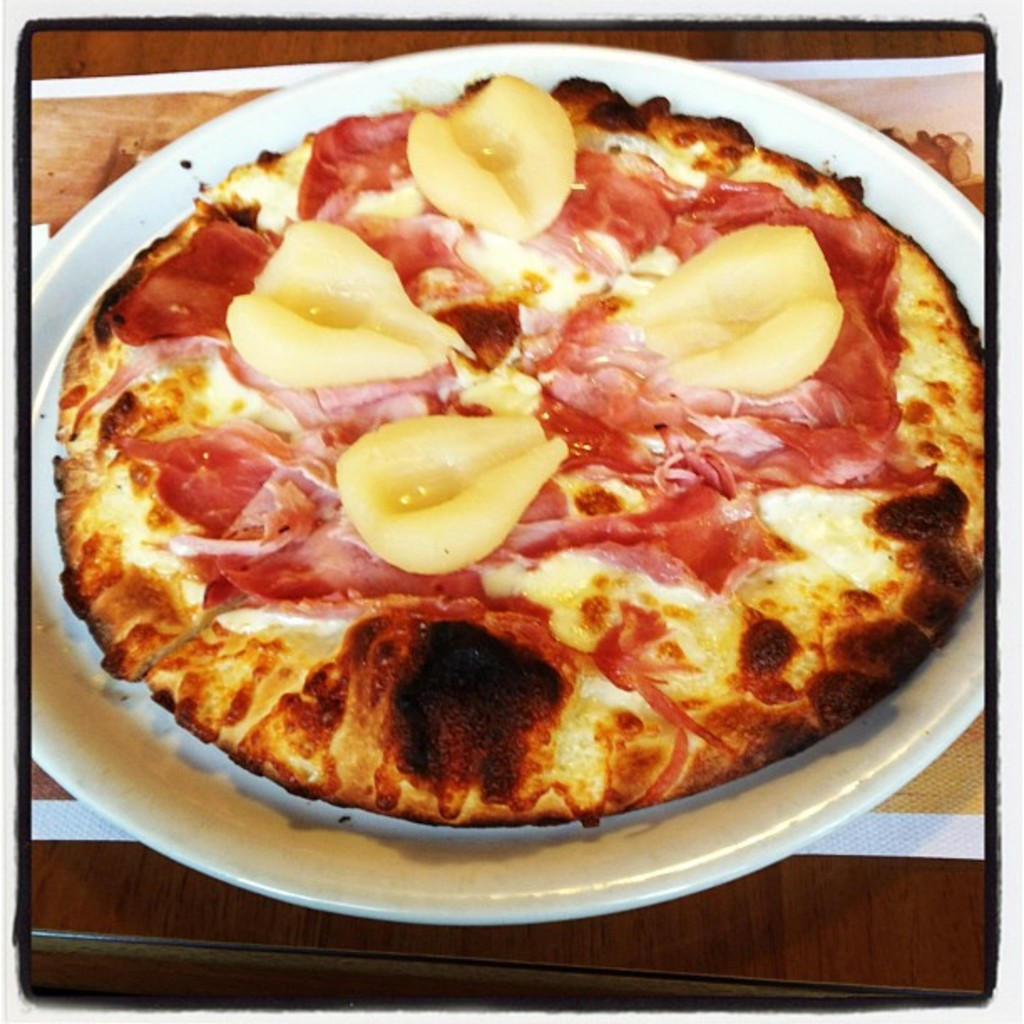Pizza: (50, 70, 992, 821)
